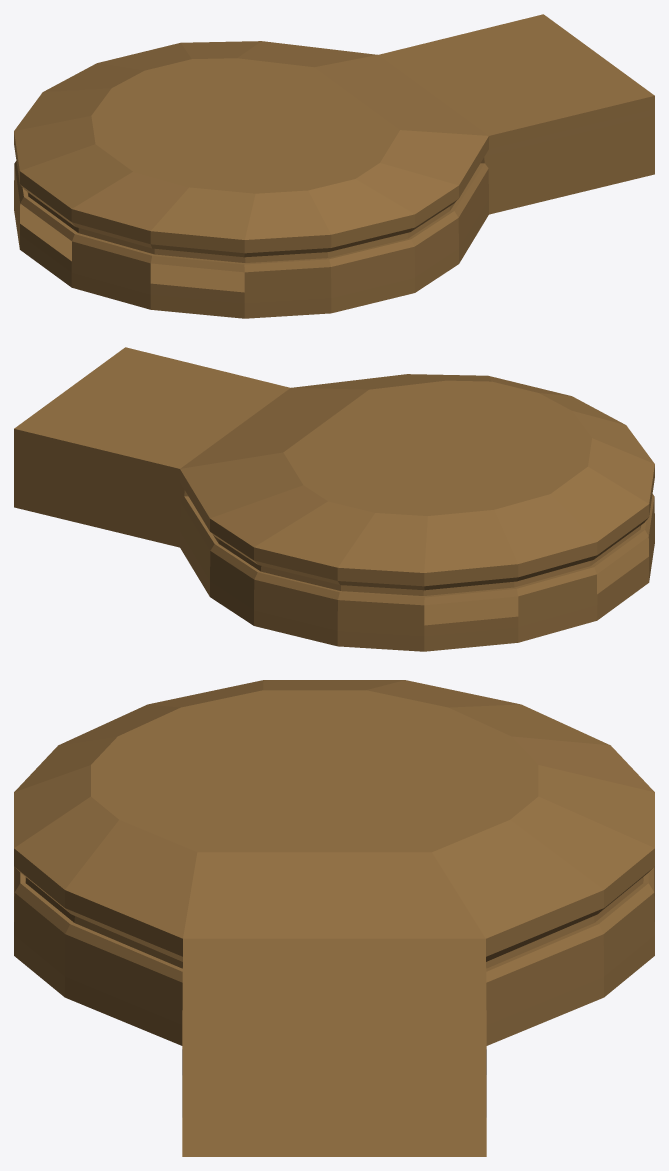
File: RoundBuildingBigMouth.fbx
3 renders of one model, top to bottom at view 1: azimuth 30°, elevation 25°; view 2: azimuth 150°, elevation 25°; view 3: azimuth 270°, elevation 25°, orthographic. The views are drawn at different scales.
Parts seen in each view (by area): view 1: Building1; view 2: Building1; view 3: Building1.
Part boxes in pixels (left/top/right/bottom): Building1: left=14, top=14, right=654, bottom=318; Building1: left=14, top=347, right=654, bottom=651; Building1: left=14, top=680, right=654, bottom=1156.
Bounding box in the file's own units: 1680 × 293 × 1232.
